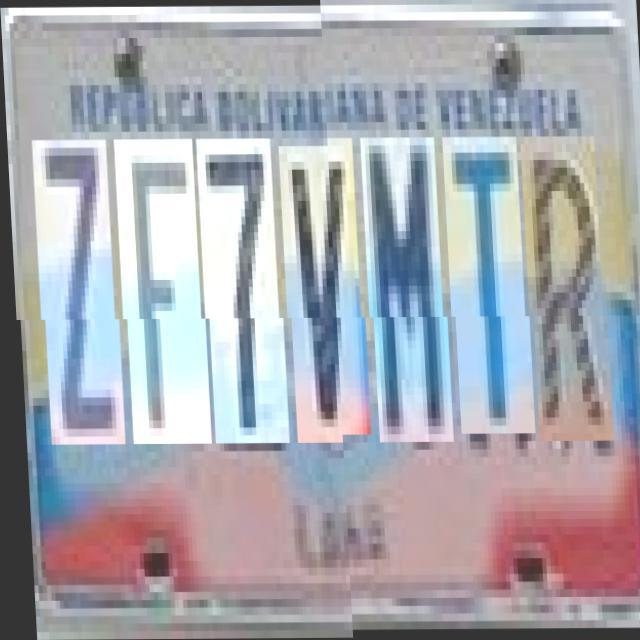7: (198, 138, 284, 444)
F: (116, 139, 206, 444)
M: (363, 146, 449, 450)
R: (523, 145, 609, 450)
T: (445, 145, 531, 442)
V: (281, 146, 367, 443)
Z: (34, 140, 120, 444)
